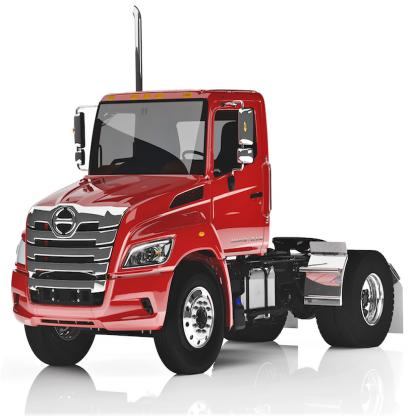dump_truck: (19, 60, 403, 372)
